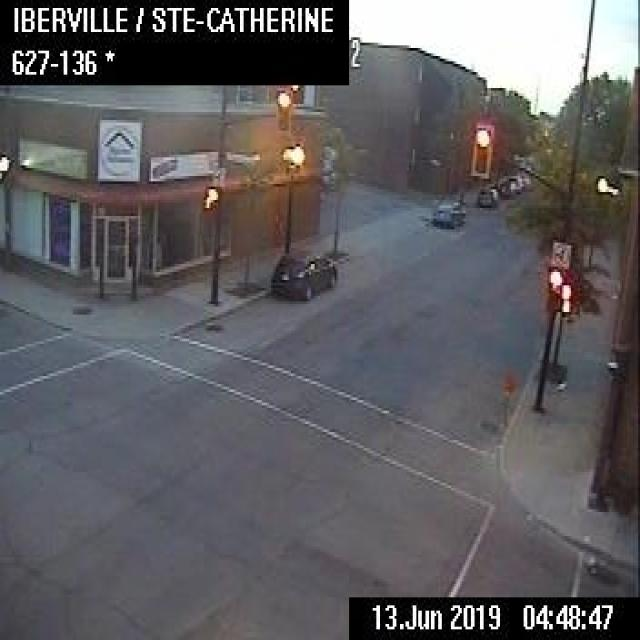vehicle: (268, 247, 337, 299), (431, 196, 466, 227), (475, 182, 497, 205), (505, 172, 523, 190), (497, 176, 513, 193)
